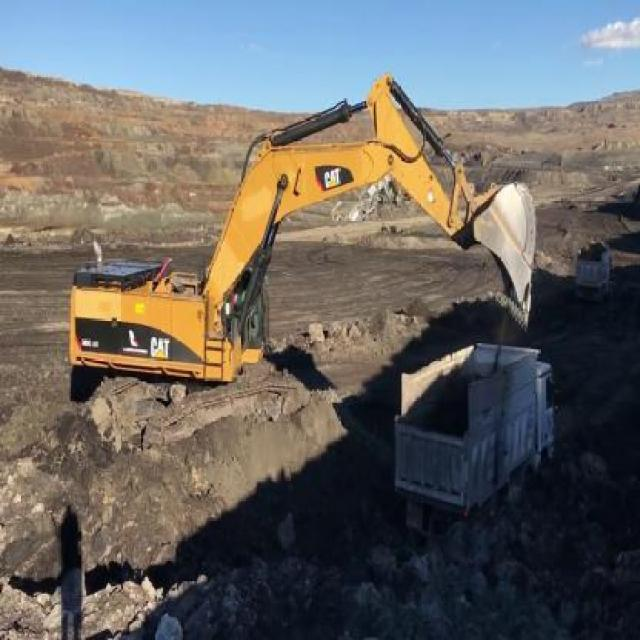Dump Truck: (389, 334, 556, 528), (575, 242, 611, 298)
Excavator: (65, 71, 538, 444)
